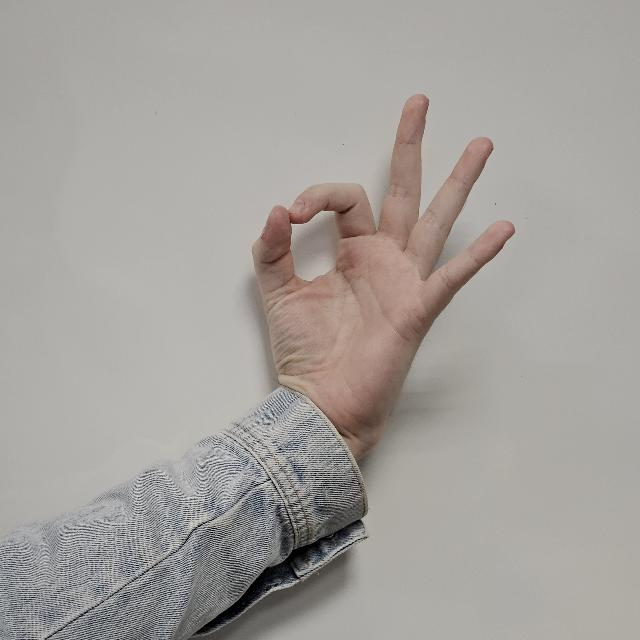Bolinha: (252, 89, 514, 478)
